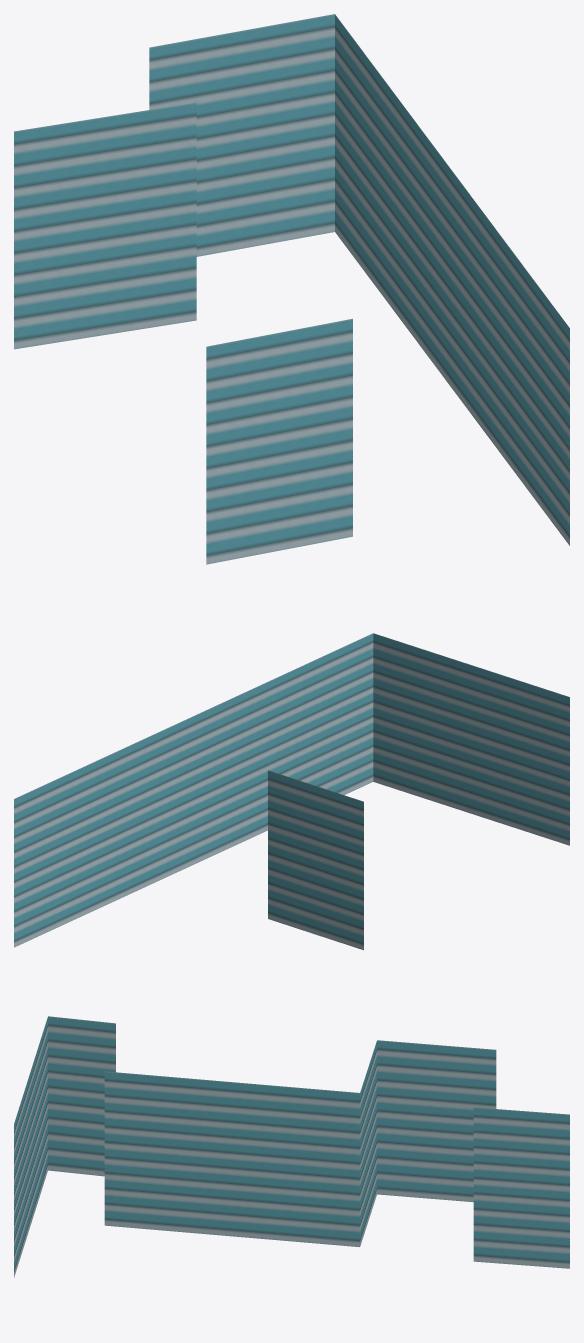
3 views of the same model, one above another, from view 1: azimuth 30°, elevation 25°; view 2: azimuth 150°, elevation 25°; view 3: azimuth 270°, elevation 25° (orthographic). The views are drawn at different scales.
Size of the model in its own units: 66 by 30 by 98.
Materials: 2 (2 with a texture image).
